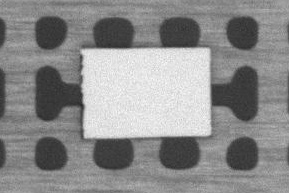DIE_BROKEN: (77, 53, 84, 85)
